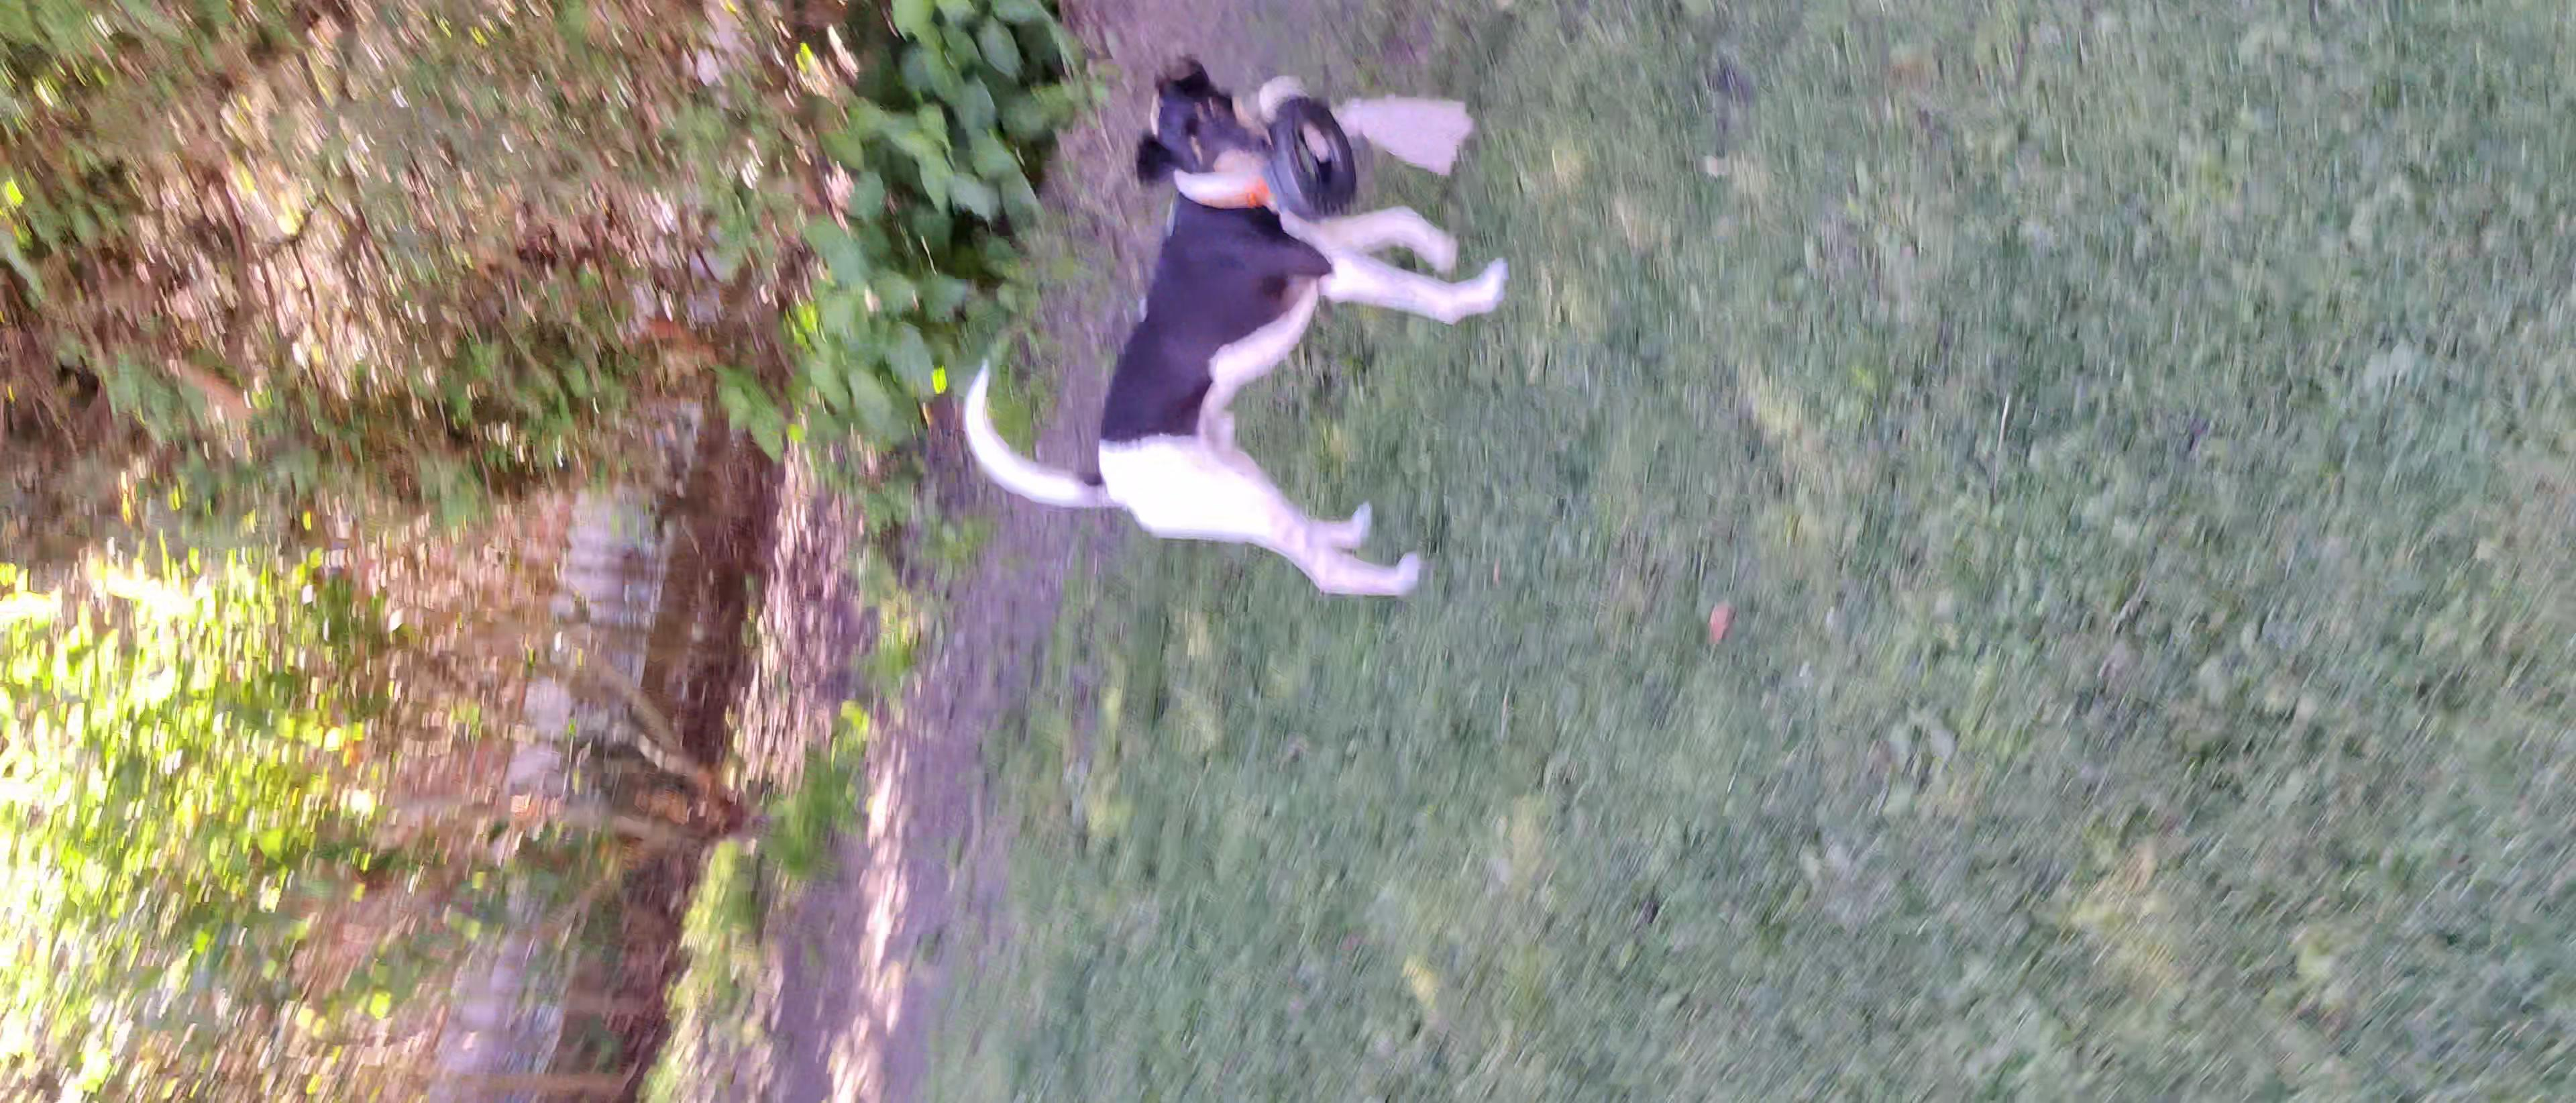Dog: (948, 33, 1528, 610)
